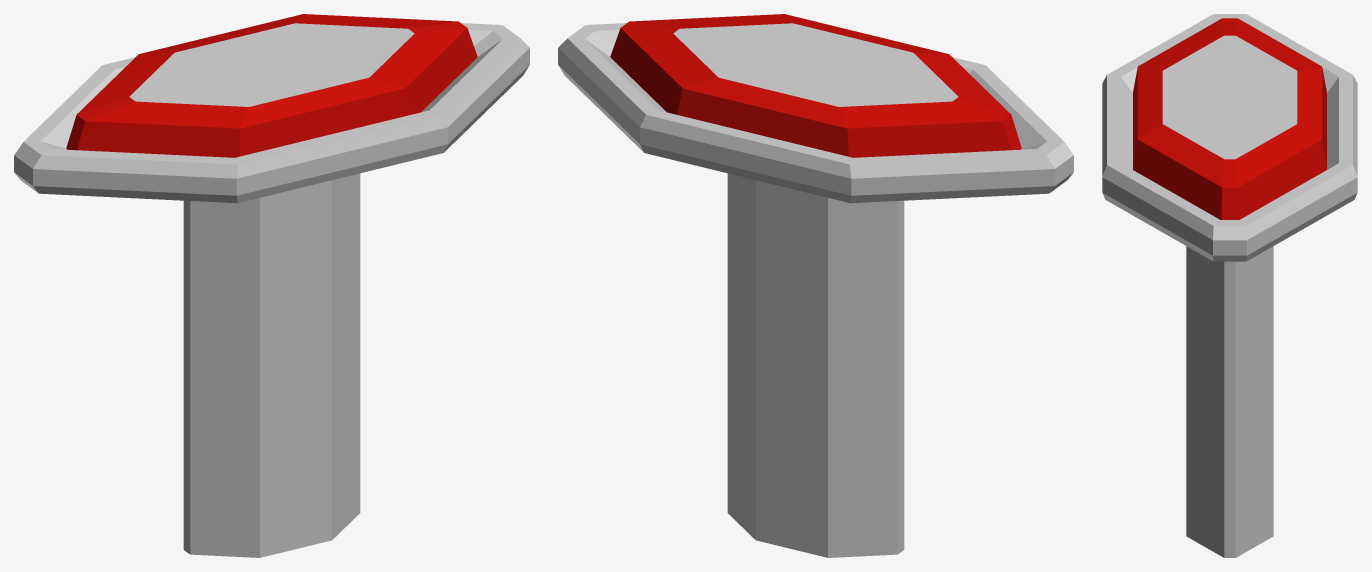
Rendered from maneuveringThruster.fbx.
3 views of the same model, side by side, from view 1: azimuth 30°, elevation 25°; view 2: azimuth 150°, elevation 25°; view 3: azimuth 270°, elevation 25° (orthographic). The views are drawn at different scales.
Visible parts, largest first — view 1: Plane; view 2: Plane; view 3: Plane.
Boxes of the visible parts, <box> form: Plane: <box>14,14,529,557</box>; Plane: <box>558,14,1073,557</box>; Plane: <box>1102,14,1357,557</box>.
Bounding box in the file's own units: 1374 × 1232 × 674.
